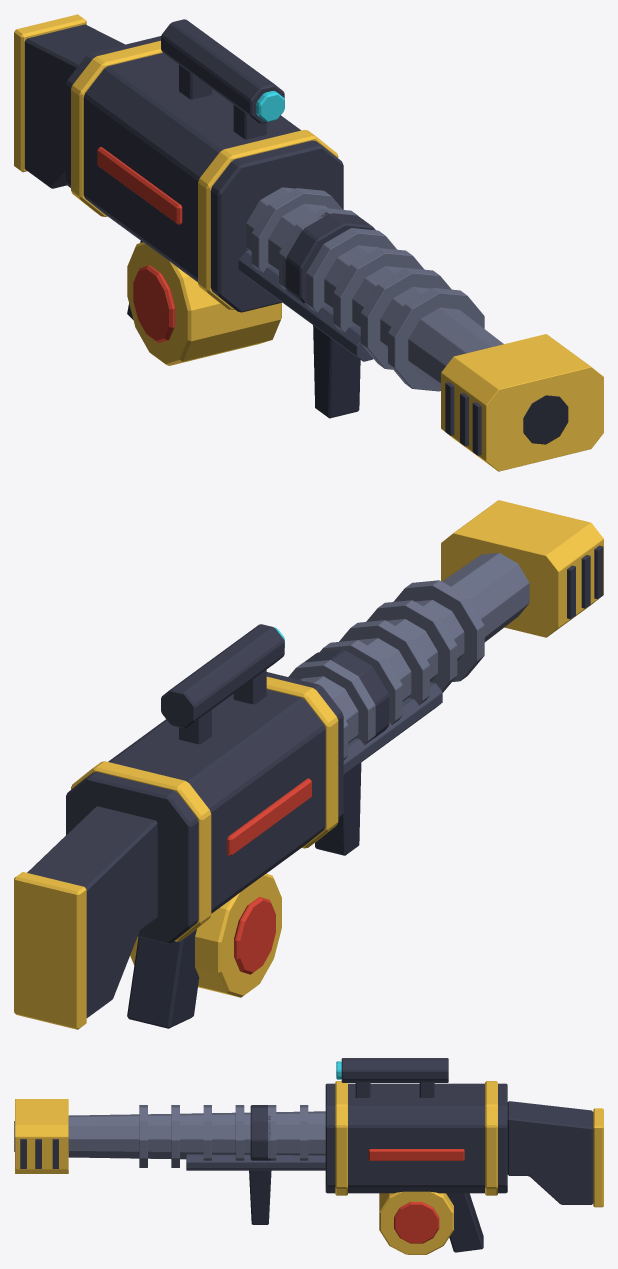
Rendered from myw_titancannon.glb.
The picture shows the model from 3 angles, top to bottom: view 1: azimuth 30°, elevation 25°; view 2: azimuth 150°, elevation 25°; view 3: azimuth 270°, elevation 25°; orthographic projection. The views are drawn at different scales.
Visible parts, largest first — view 1: Body, Barrel, Scope, Drum; view 2: Body, Barrel, Scope, Drum; view 3: Body, Barrel, Scope, Drum.
Part boxes in pixels (<box>): Body: <box>14,14,343,319</box>; Barrel: <box>238,187,603,471</box>; Scope: <box>161,19,375,418</box>; Drum: <box>127,242,281,365</box>; Body: <box>14,672,343,1029</box>; Barrel: <box>288,500,603,774</box>; Scope: <box>161,624,389,855</box>; Drum: <box>130,873,281,997</box>; Body: <box>325,1081,603,1252</box>; Barrel: <box>14,1099,325,1173</box>; Scope: <box>249,1058,448,1224</box>; Drum: <box>379,1191,453,1254</box>.
Size of the model in its own units: 0.86 by 1.93 by 5.51.
